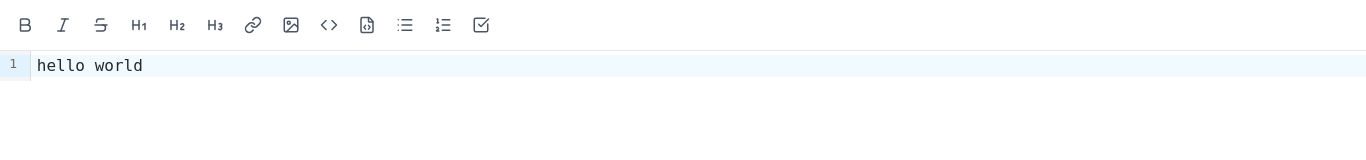
EditorWithToolbar - Phase 2: 선택 영역 서식 & 토글 (통합) › 시나리오 1: 텍스트 선택 후 Bold 적용 › 사용자가 텍스트를 입력하고 일부를 선택하여 Bold 적용
The image size is (1366, 160).
Click the button named "굵게": (25, 25) [8,8,42,42]
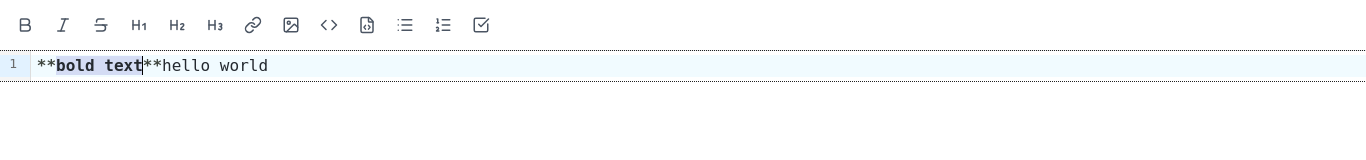
Now the text box labelled "**bold text**hello world" is shown, box [31,55,1365,77]
